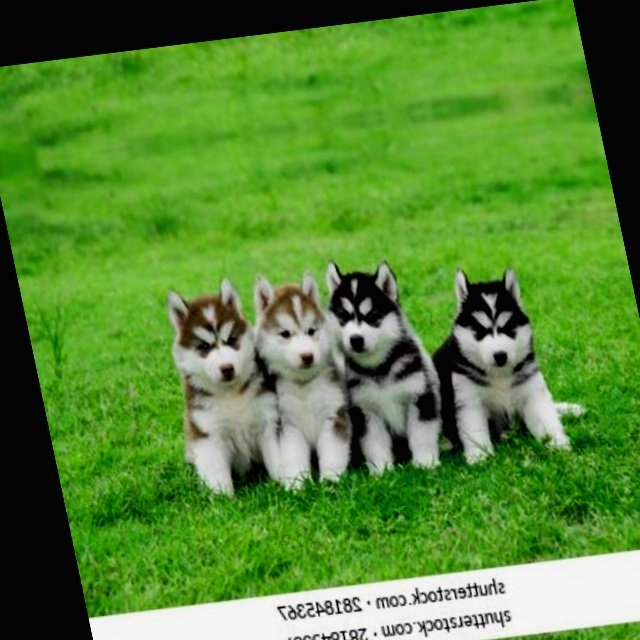dog: (394, 217, 591, 479), (291, 231, 474, 499)
